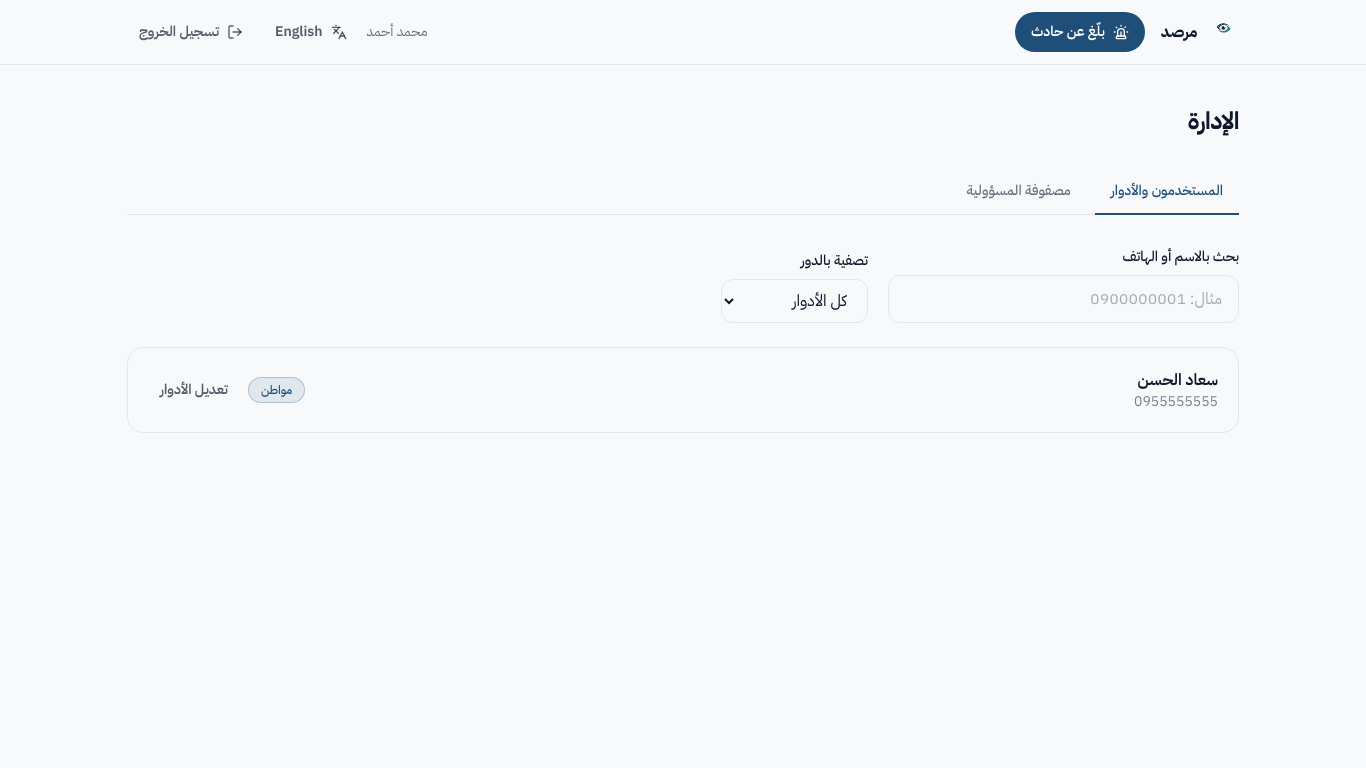
Test: users and roles › surfaces the server refusal when an admin over-reaches
Click the button "تعديل الأدوار".
click(194, 390)  # box [148,372,240,408]
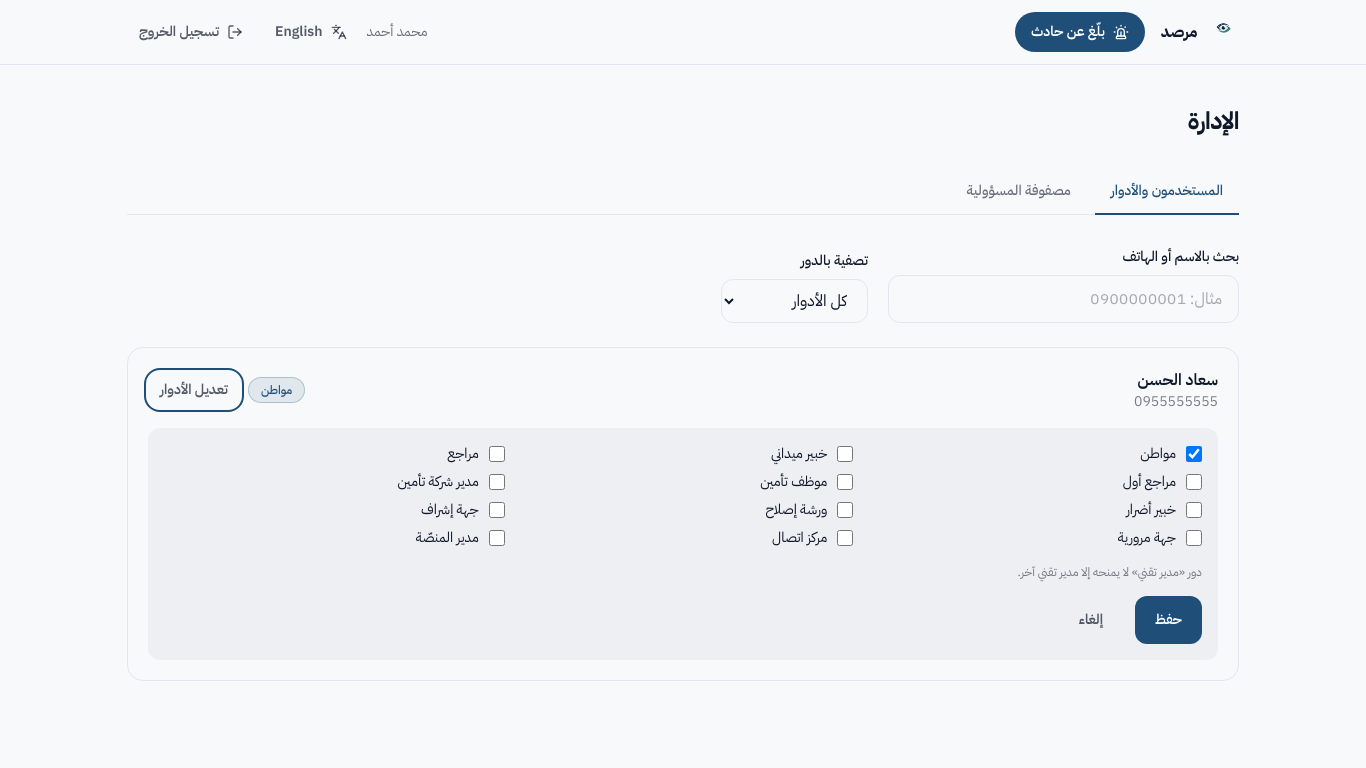
Click the checkbox labelled "خبير ميداني".
click(845, 454)  # box [837,446,853,462]
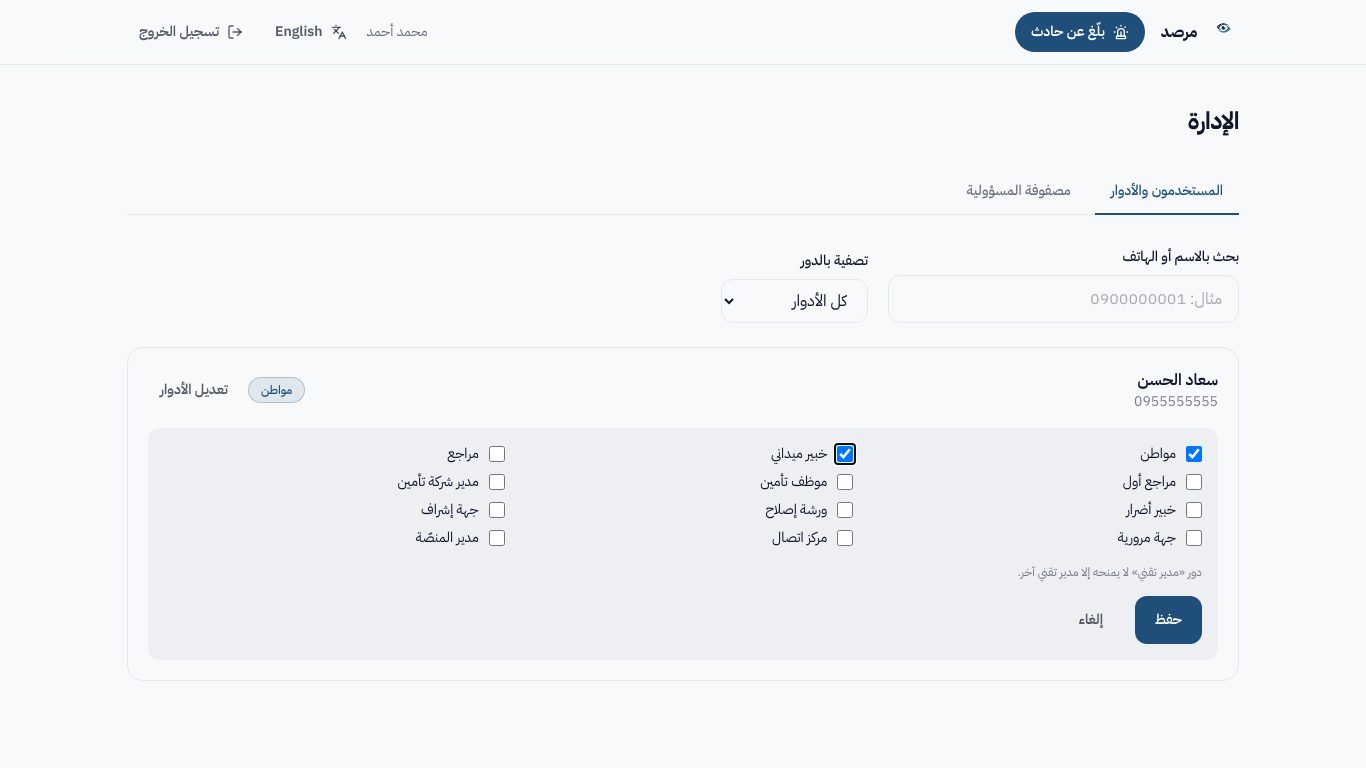
Click the button "حفظ".
click(1169, 620)  # box [1135,596,1202,644]
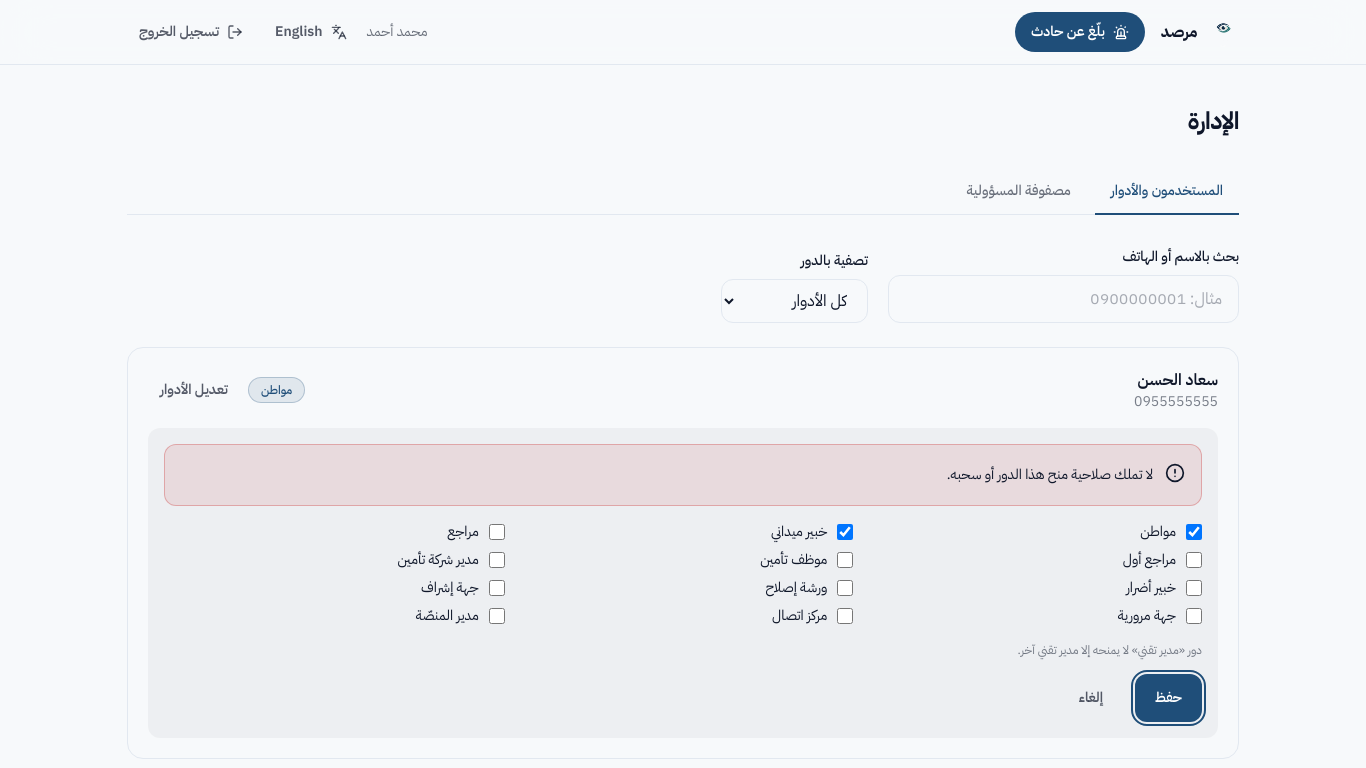
Expected: the text "لا تملك صلاحية منح هذا الدور أو سحبه." is shown, [947,461,1153,489]
